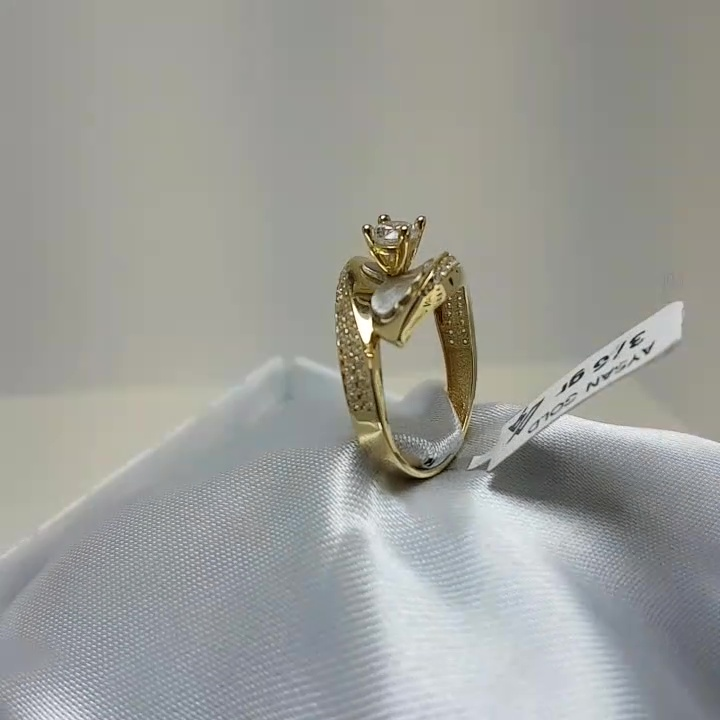Ring 6: (315, 200, 515, 483)
